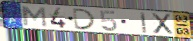4: (49, 7, 67, 29)
5: (100, 10, 119, 32)
D: (73, 8, 98, 31)
I: (140, 12, 148, 35)
M: (21, 5, 48, 28)
X: (150, 12, 174, 36)
